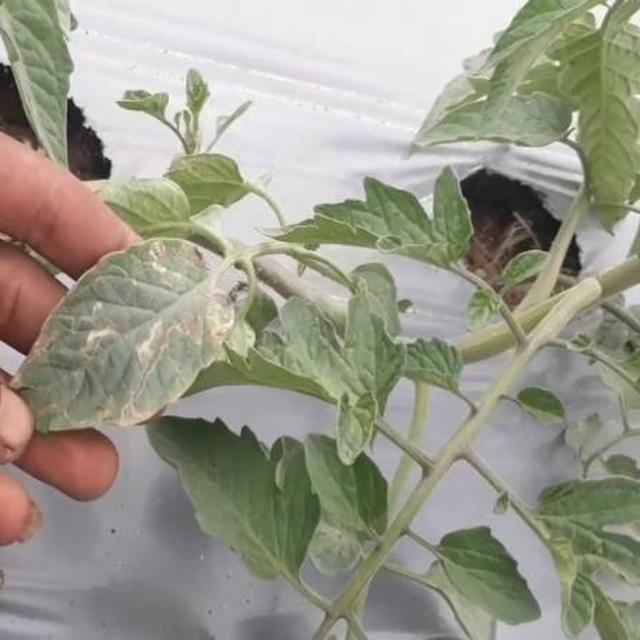Leaf Miner: (132, 147, 640, 640)
